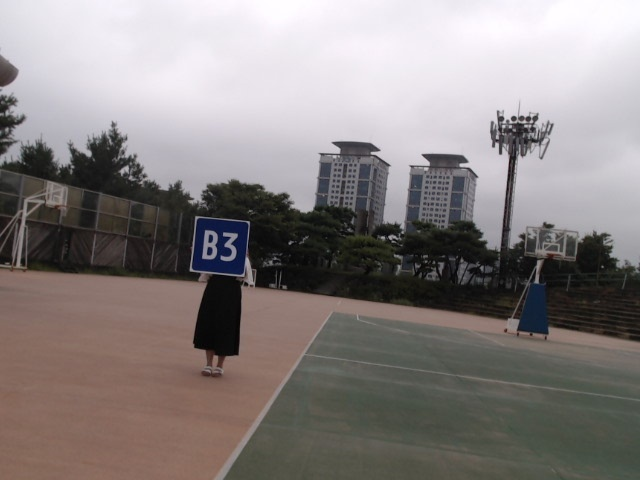delivery_b3: (190, 217, 248, 277)
